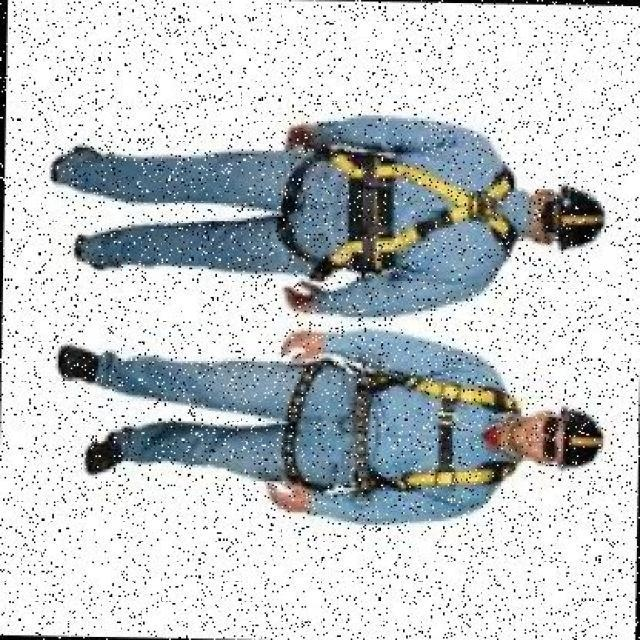Arnes_seguridad: (272, 354, 525, 500), (268, 144, 524, 287)
